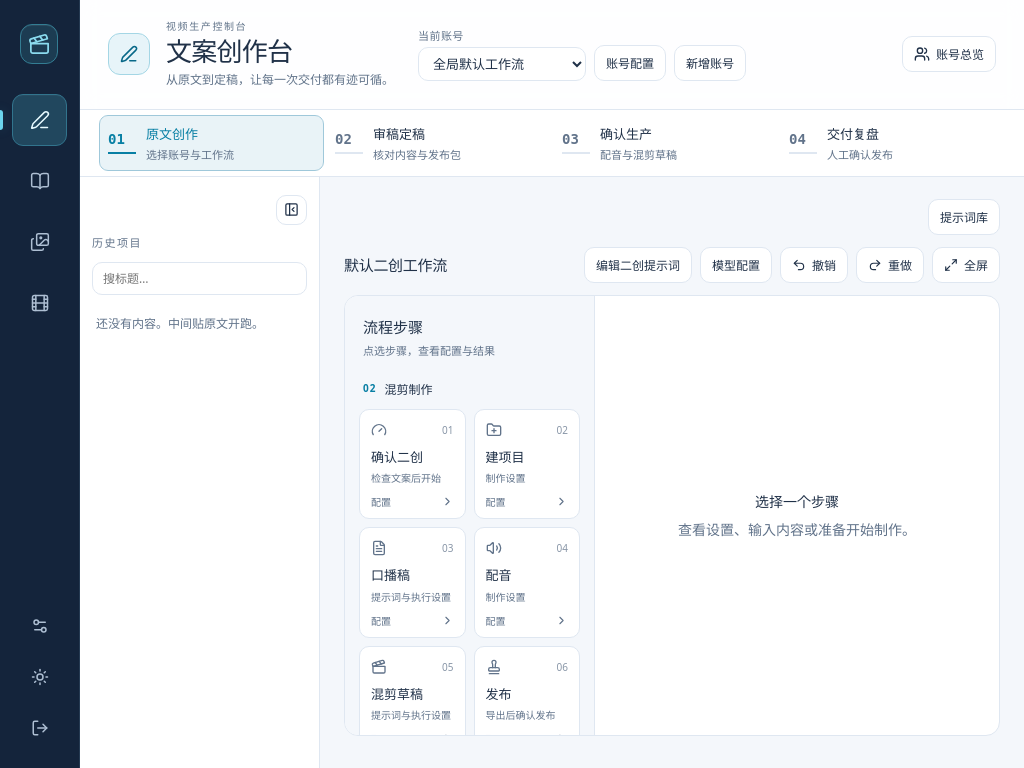
Scenario: root opens the workflow canvas and the header switches to image mode
The width and height of the screenshot is (1024, 768).
expect the heading "文案创作台" is shown: met, box [166, 37, 292, 67]
Click the link named "图文制作".
click(40, 242)  # box [30, 232, 50, 252]
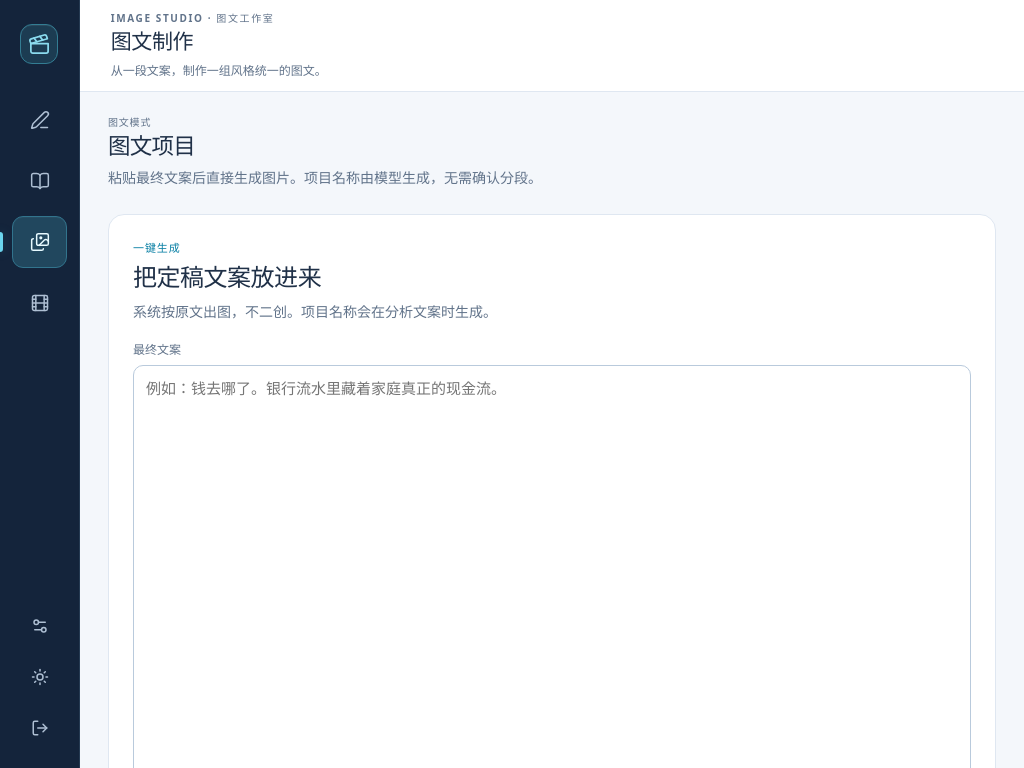
expect the heading "图文项目" is shown: met, box [108, 134, 195, 159]
Click the link named "文案与混剪".
click(40, 120)  # box [30, 110, 50, 130]
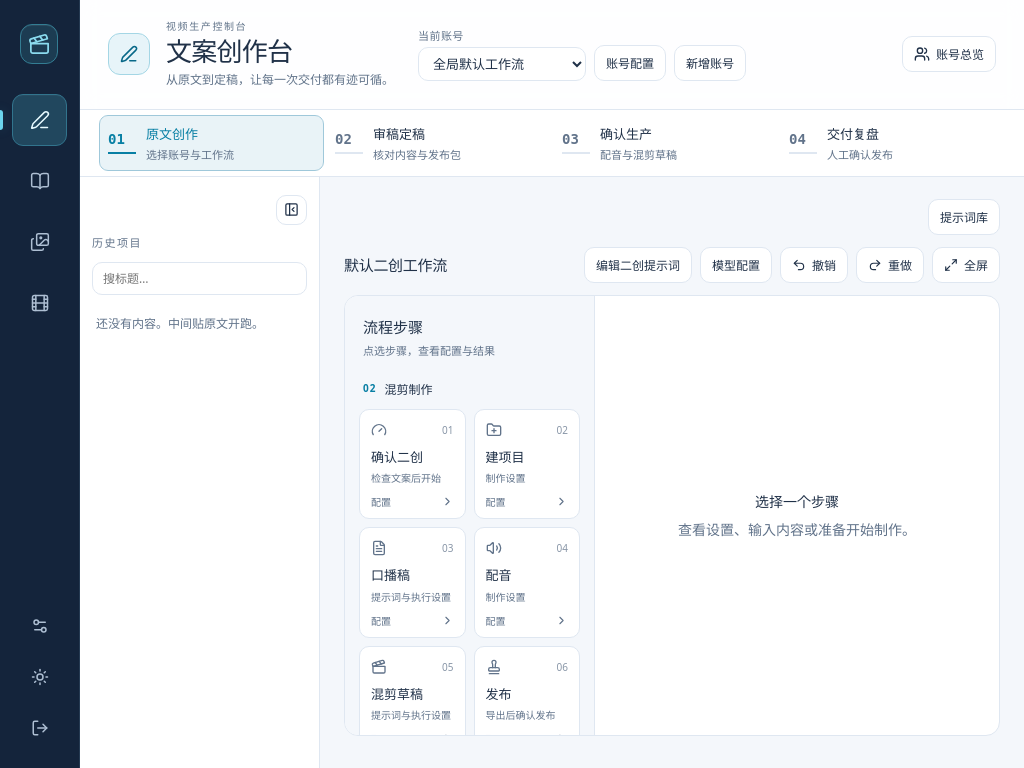
expect the heading "文案创作台" is shown: met, box [166, 37, 292, 67]
